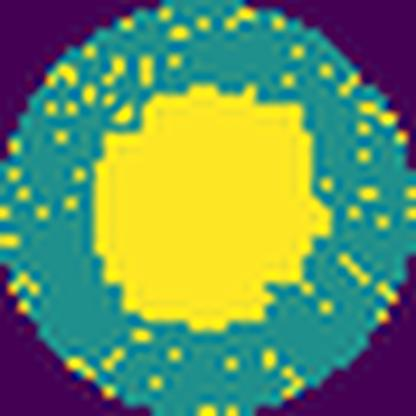Center: (89, 88, 335, 332)
